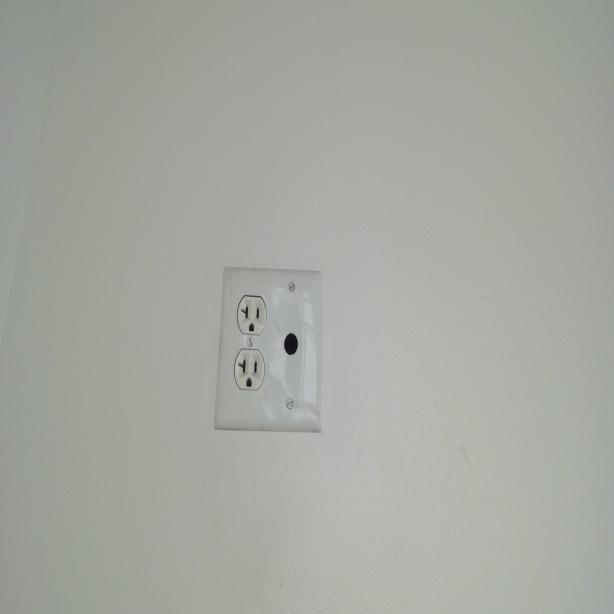typeb: (236, 350, 264, 393), (238, 296, 267, 334)
